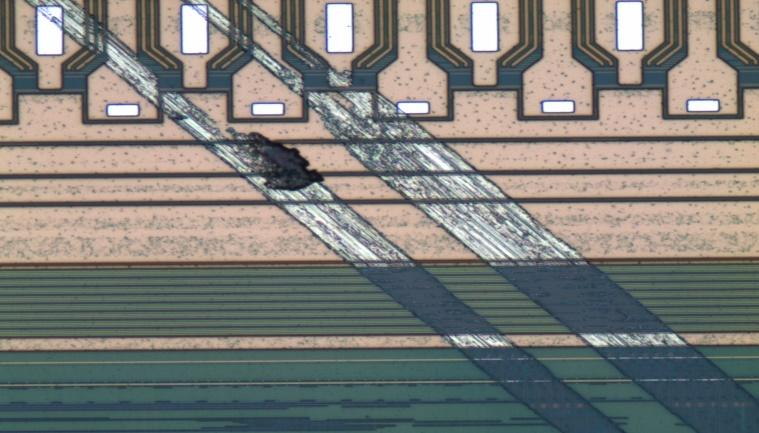SCRATCH: (22, 1, 759, 433)
